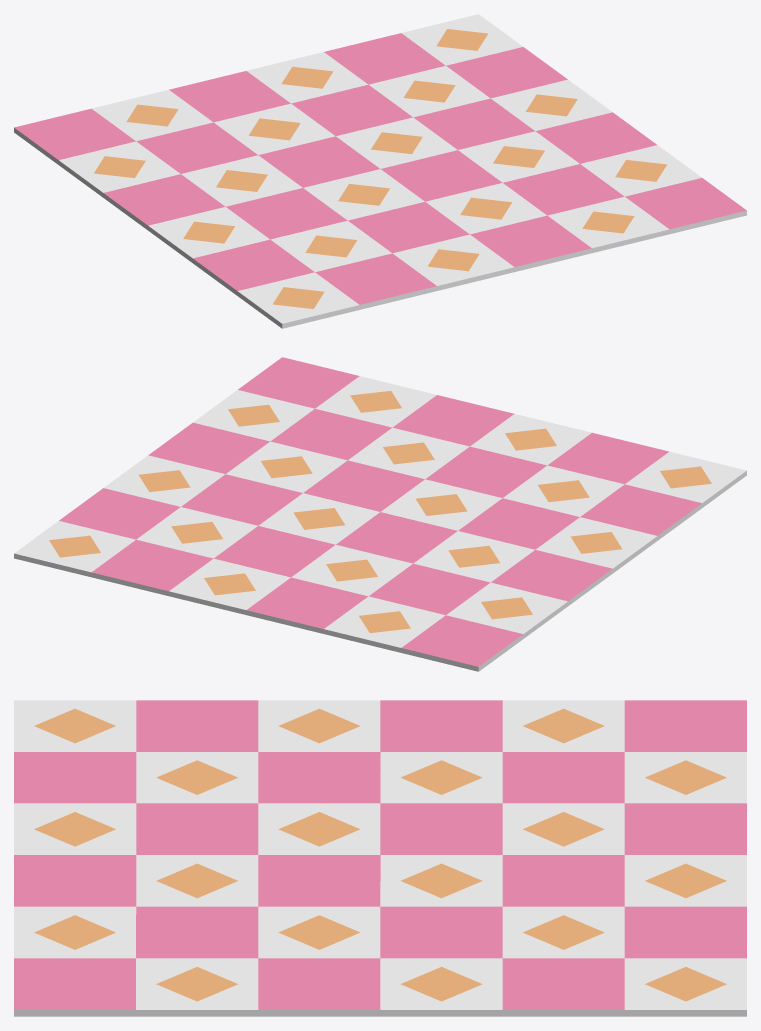
File: Ground_25.fbx
3 views of the same model, one above another, from view 1: azimuth 30°, elevation 25°; view 2: azimuth 150°, elevation 25°; view 3: azimuth 270°, elevation 25° (orthographic). The views are drawn at different scales.
Visible parts, largest first — view 1: Ground_25; view 2: Ground_25; view 3: Ground_25.
Boxes of the visible parts, box(x1,y1,x2,y2) form: Ground_25: box(14, 14, 746, 328); Ground_25: box(14, 357, 746, 671); Ground_25: box(14, 700, 746, 1016).
Size of the model in its own units: 3.61 by 0.0368 by 3.61.
